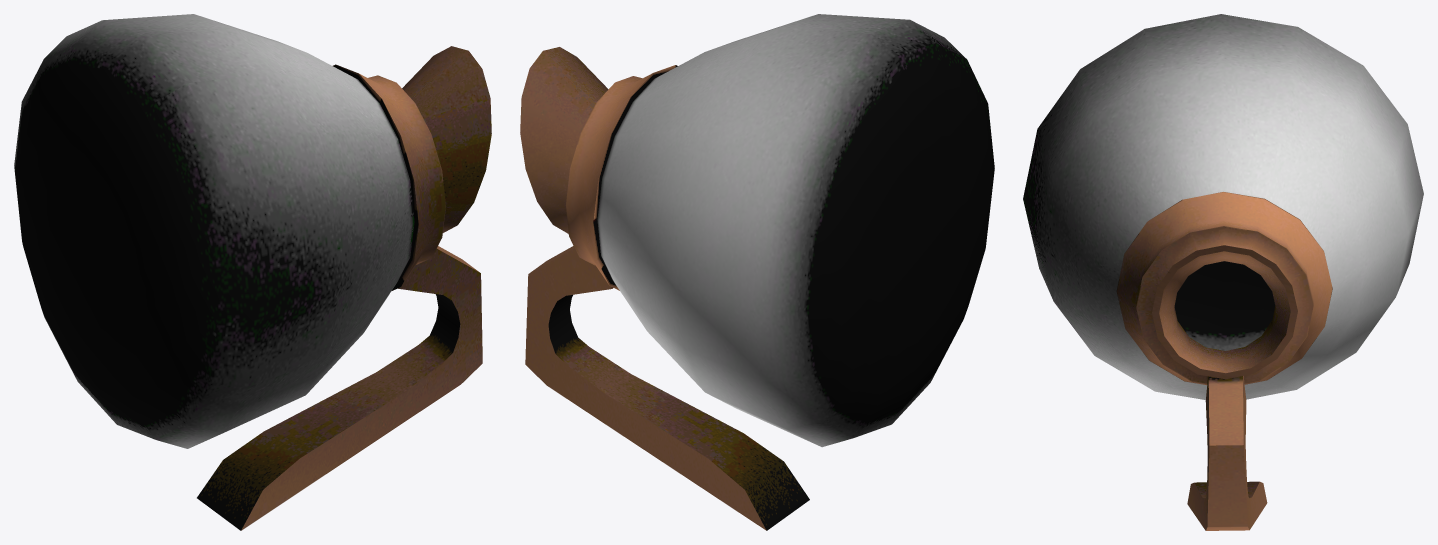
File: props_2fort_coffeepot.glb
3 renders of one model, left to right at view 1: azimuth 30°, elevation 25°; view 2: azimuth 150°, elevation 25°; view 3: azimuth 270°, elevation 25°, orthographic. The views are drawn at different scales.
Visible parts, largest first — view 1: models/props_2fort/coffeepot; view 2: models/props_2fort/coffeepot; view 3: models/props_2fort/coffeepot.
Part boxes in pixels (x1,y1,x2,y2): models/props_2fort/coffeepot: [14, 14, 491, 530]; models/props_2fort/coffeepot: [520, 14, 994, 530]; models/props_2fort/coffeepot: [1023, 14, 1423, 530].
Size of the model in its own units: 11.34 by 14.1 by 11.25.
Materials: 1 (1 with a texture image).
